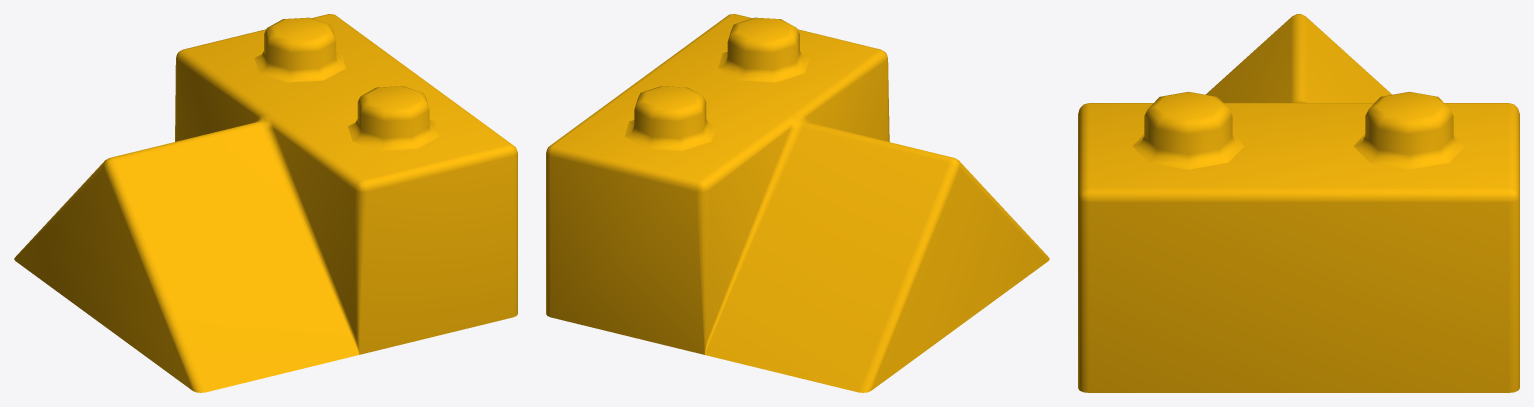
Rendered from Parallel_Bevel_Half.fbx.
The picture shows the model from 3 angles, left to right: view 1: azimuth 30°, elevation 25°; view 2: azimuth 150°, elevation 25°; view 3: azimuth 270°, elevation 25°; orthographic projection. The views are drawn at different scales.
Visible parts, largest first — view 1: Parallel_Bevel_Half, Knobs.032; view 2: Parallel_Bevel_Half, Knobs.032; view 3: Parallel_Bevel_Half, Knobs.032.
Part boxes in pixels (<box>): Parallel_Bevel_Half: <box>14,14,517,392</box>; Knobs.032: <box>254,17,439,150</box>; Parallel_Bevel_Half: <box>546,14,1049,392</box>; Knobs.032: <box>624,17,809,150</box>; Parallel_Bevel_Half: <box>1078,14,1519,392</box>; Knobs.032: <box>1132,91,1465,169</box>.
Size of the model in its own units: 1 by 0.6 by 1.
